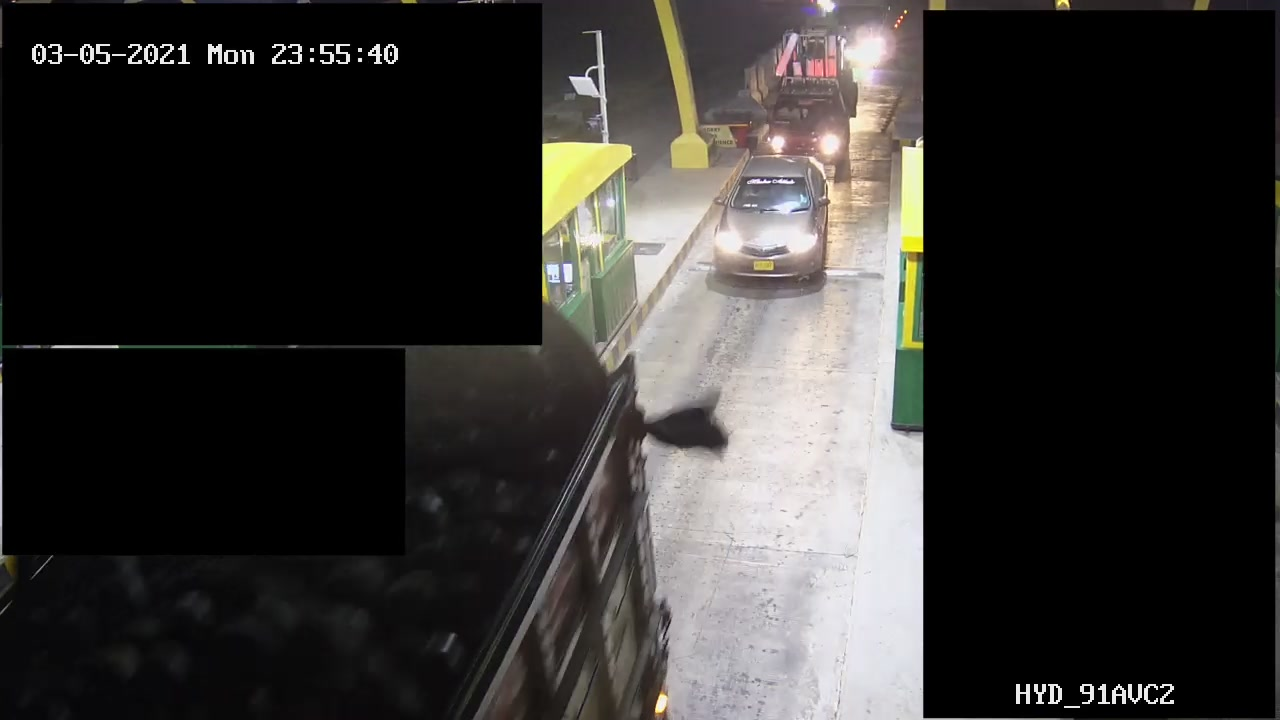F1: (706, 151, 831, 288)
